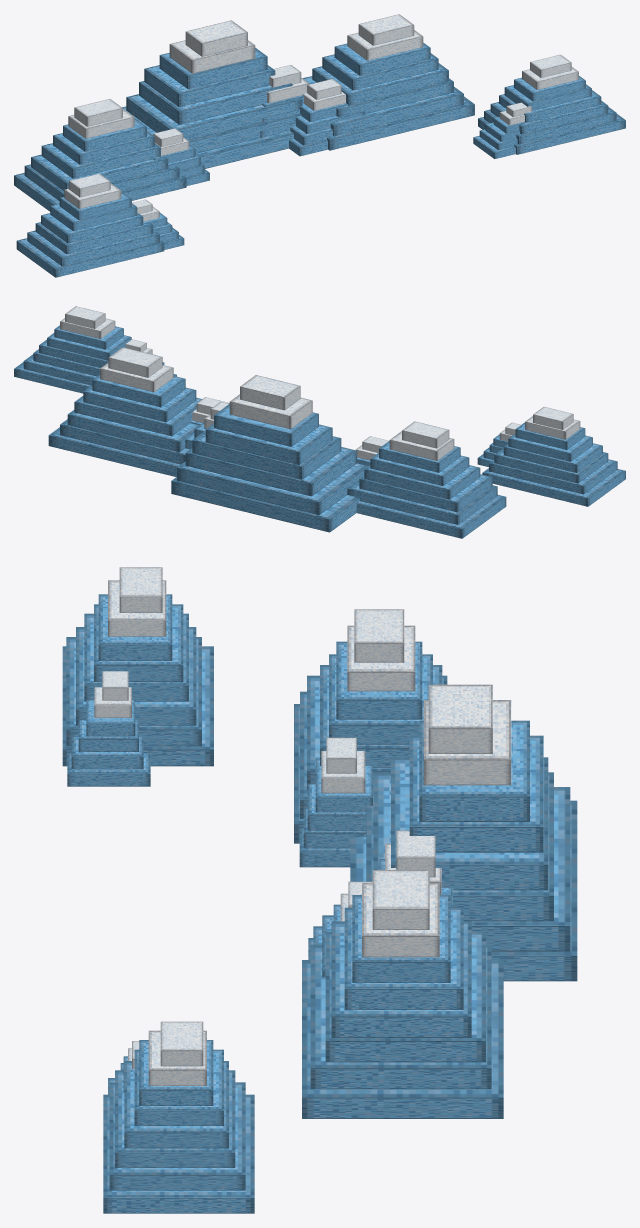
File: env_mountains.fbx
3 renders of one model, top to bottom at view 1: azimuth 30°, elevation 25°; view 2: azimuth 150°, elevation 25°; view 3: azimuth 270°, elevation 25°, orthographic. The views are drawn at different scales.
Parts seen in each view (by area): view 1: env_mountains_3, env_mountains_1, env_mountains, env_mountains_4, env_mountains_5, env_mountains_2; view 2: env_mountains_1, env_mountains_3, env_mountains, env_mountains_4, env_mountains_5, env_mountains_2; view 3: env_mountains_3, env_mountains_1, env_mountains_4, env_mountains_5, env_mountains, env_mountains_2.
Part boxes in pixels (left/top/right/bottom): env_mountains_3: left=289, top=14, right=474, bottom=156; env_mountains_1: left=122, top=20, right=302, bottom=168; env_mountains: left=14, top=99, right=209, bottom=211; env_mountains_4: left=16, top=173, right=184, bottom=277; env_mountains_5: left=473, top=54, right=625, bottom=158; env_mountains_2: left=260, top=65, right=309, bottom=138; env_mountains_1: left=171, top=375, right=367, bottom=532; env_mountains_3: left=48, top=347, right=229, bottom=476; env_mountains: left=347, top=421, right=506, bottom=538; env_mountains_4: left=477, top=407, right=625, bottom=506; env_mountains_5: left=14, top=306, right=176, bottom=393; env_mountains_2: left=185, top=401, right=228, bottom=449; env_mountains_3: left=302, top=870, right=503, bottom=1118; env_mountains_1: left=350, top=684, right=577, bottom=981; env_mountains_4: left=62, top=567, right=213, bottom=786; env_mountains_5: left=103, top=1021, right=254, bottom=1213; env_mountains: left=294, top=609, right=447, bottom=867; env_mountains_2: left=379, top=830, right=452, bottom=907.
Size of the model in its own units: 3200 by 561 by 1265.
2 materials, 1 textured.
